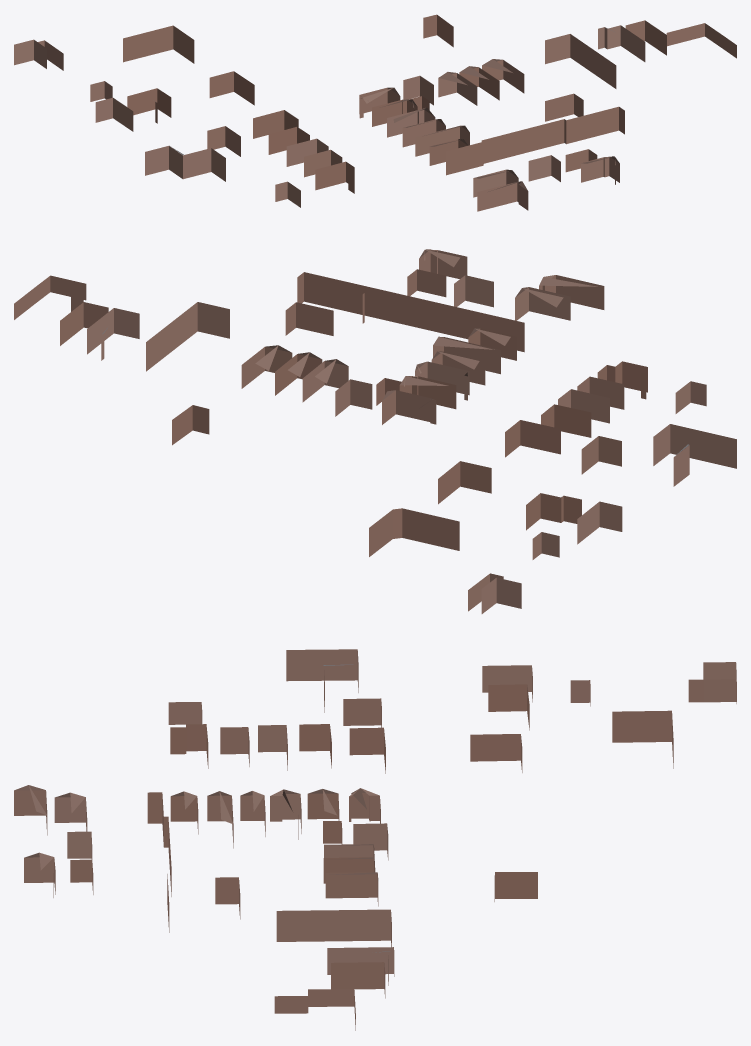
Rendered from c_1634_17822_buildings_residential.glb.
3 views of the same model, one above another, from view 1: azimuth 30°, elevation 25°; view 2: azimuth 150°, elevation 25°; view 3: azimuth 270°, elevation 25° (orthographic). The views are drawn at different scales.
Parts seen in each view (by area): view 1: geometry_0; view 2: geometry_0; view 3: geometry_0.
Part boxes in pixels (box(x1,y1,x2,y2)): geometry_0: box(14, 14, 736, 211); geometry_0: box(14, 249, 736, 613); geometry_0: box(14, 649, 736, 1030).
Bounding box in the file's own units: 269 × 11.95 × 231.
